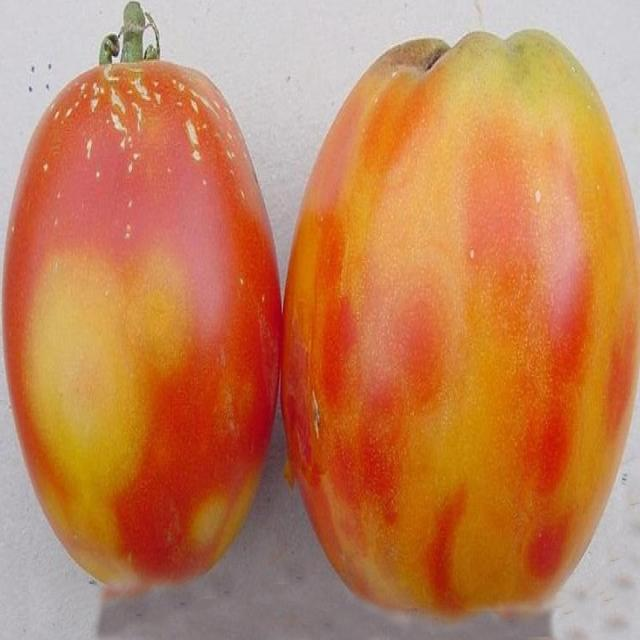Spotted wilt Virus Fruit: (9, 25, 303, 130)
